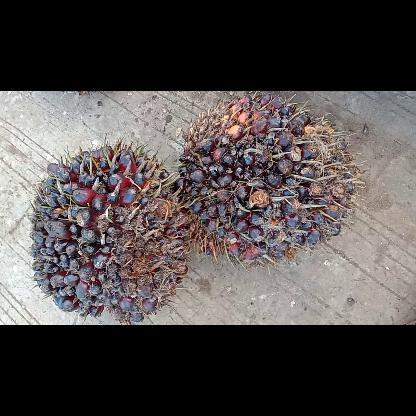TBS mentah: (175, 95, 355, 264), (30, 144, 186, 324)
